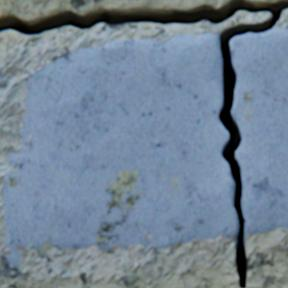broken_brick: (4, 35, 237, 267), (230, 31, 287, 240)
crack: (0, 0, 287, 287)
